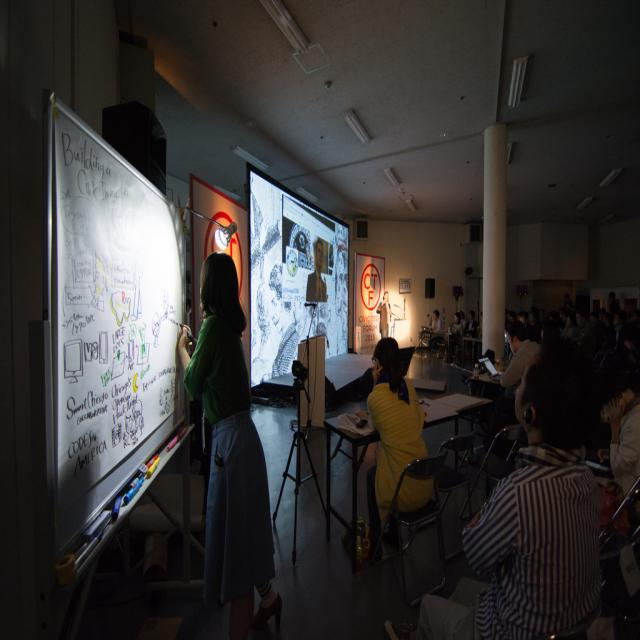chair: (272, 337, 330, 565), (374, 453, 449, 605), (466, 424, 524, 512)
desk: (323, 398, 458, 572)
person: (439, 350, 605, 636), (180, 247, 282, 636), (366, 336, 426, 562), (600, 355, 640, 514)
tv: (33, 93, 189, 578)
